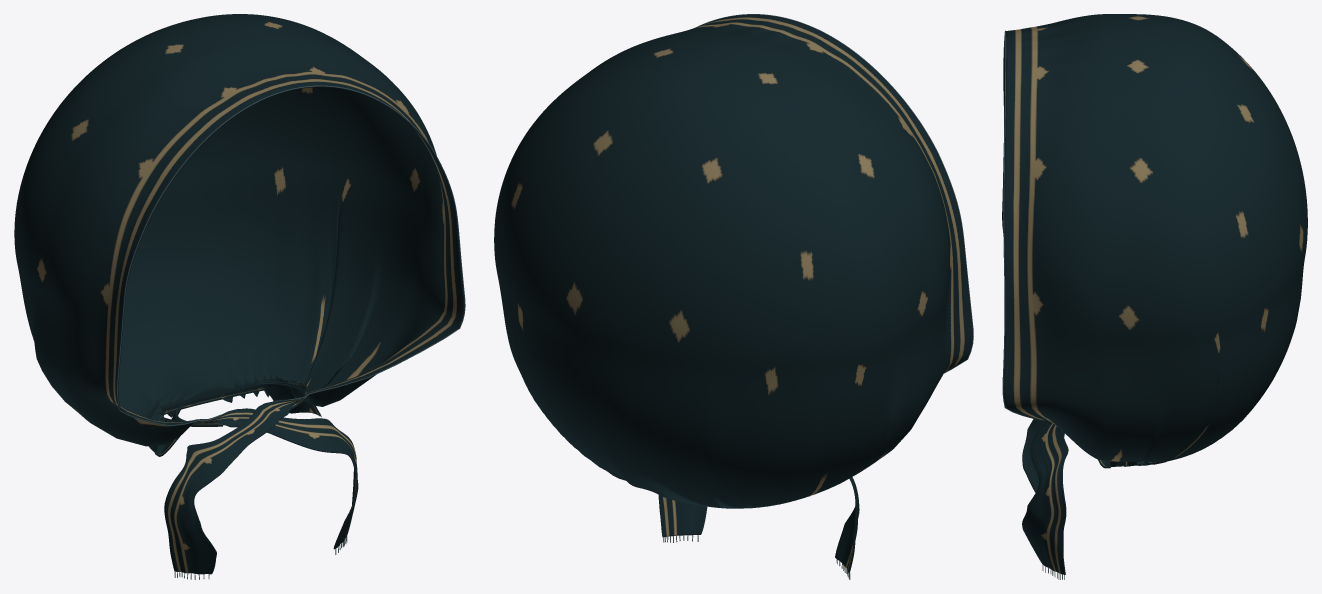
Rendered from Feminine-space-buns-triangle-pashmina250-headgear.glb.
The picture shows the model from 3 angles, left to right: view 1: azimuth 30°, elevation 25°; view 2: azimuth 150°, elevation 25°; view 3: azimuth 270°, elevation 25°; orthographic projection. The views are drawn at different scales.
Visible parts, largest first — view 1: 226 headgear / Headwear / continuous woven pashmina239, 226 headgear / Headwear / face edge239; view 2: 226 headgear / Headwear / continuous woven pashmina239, 226 headgear / Headwear / face edge239; view 3: 226 headgear / Headwear / continuous woven pashmina239, 226 headgear / Headwear / face edge239.
Part boxes in pixels (x1,y1,x2,y2): 226 headgear / Headwear / continuous woven pashmina239: [14, 14, 464, 574]; 226 headgear / Headwear / face edge239: [117, 85, 465, 426]; 226 headgear / Headwear / continuous woven pashmina239: [494, 14, 972, 573]; 226 headgear / Headwear / face edge239: [695, 14, 973, 373]; 226 headgear / Headwear / continuous woven pashmina239: [1002, 14, 1307, 574]; 226 headgear / Headwear / face edge239: [1002, 30, 1044, 420].
Bounding box in the file's own units: 1.07 × 1.38 × 0.7556.
3 materials, 1 textured.
